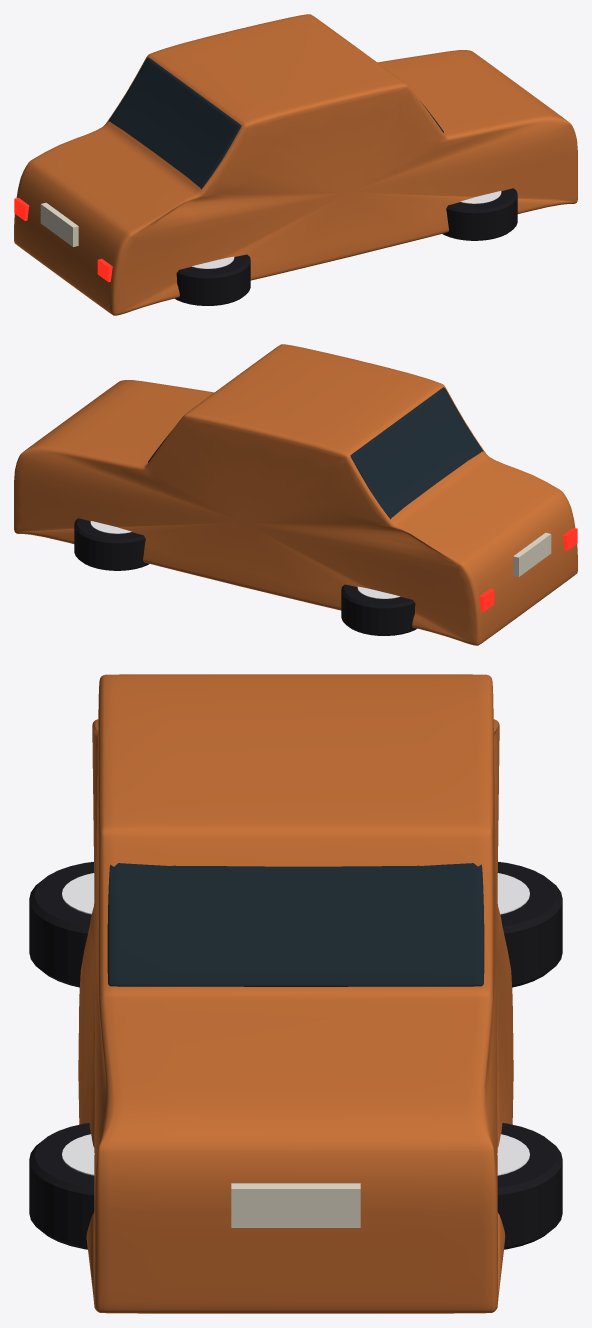
File: t1_chimp.glb
3 views of the same model, one above another, from view 1: azimuth 30°, elevation 25°; view 2: azimuth 150°, elevation 25°; view 3: azimuth 270°, elevation 25° (orthographic). The views are drawn at different scales.
Parts seen in each view (by area): view 1: paint_00, glass_00, tyre_04, tyre_06, wall_01; view 2: paint_00, glass_00, tyre_05, tyre_07, wall_01; view 3: paint_00, glass_00, tyre_07, tyre_06, wall_00, tyre_04, tyre_05, chrome_06, chrome_07, chrome_08, chrome_09.
Part boxes in pixels (<box>): paint_00: <box>14,14,577,315</box>; glass_00: <box>108,57,443,189</box>; tyre_04: <box>175,254,250,305</box>; tyre_06: <box>442,188,517,240</box>; wall_01: <box>40,202,78,246</box>; paint_00: <box>14,344,577,645</box>; glass_00: <box>148,387,483,519</box>; tyre_05: <box>341,584,416,635</box>; tyre_07: <box>74,518,149,570</box>; wall_01: <box>513,532,551,576</box>; paint_00: <box>78,674,513,1313</box>; glass_00: <box>107,863,484,986</box>; tyre_07: <box>497,1123,562,1249</box>; tyre_06: <box>29,1123,94,1249</box>; wall_00: <box>231,1183,360,1227</box>; tyre_04: <box>29,862,94,987</box>; tyre_05: <box>497,862,562,987</box>; chrome_06: <box>62,873,94,914</box>; chrome_07: <box>497,873,529,914</box>; chrome_08: <box>62,1134,94,1175</box>; chrome_09: <box>497,1134,529,1175</box>.
Size of the model in its own units: 10.24 by 3.33 by 4.95.
